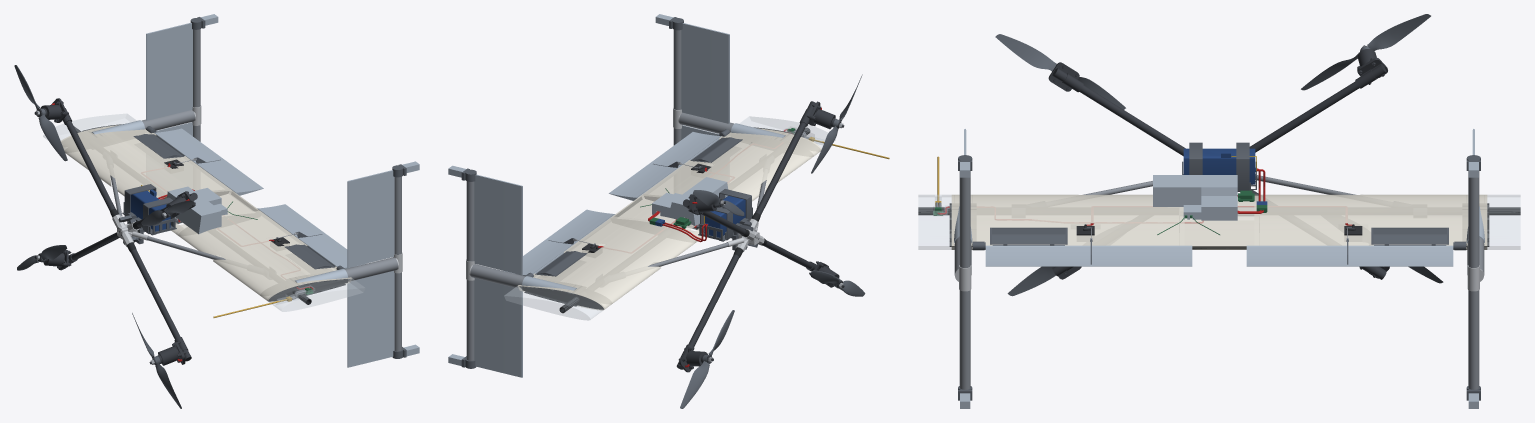
The model's file is concept-a.opt.glb.
3 views of the same model, side by side, from view 1: azimuth 30°, elevation 25°; view 2: azimuth 150°, elevation 25°; view 3: azimuth 270°, elevation 25° (orthographic). The views are drawn at different scales.
Parts seen in each view (by area): view 1: WNG-011, FIN-004-L, WNG-014-L, WNG-014-R, FIN-004-R, WNG-001, WNG-006-R, WNG-006-L, AVN-008, CGE-002-A, FIN-001-L, PRP-002-UR (+14 smaller); view 2: WNG-011, FIN-004-R, WNG-014-R, WNG-014-L, FIN-004-L, WNG-001, WNG-006-L, WNG-006-R, CGE-002-B, FIN-001-R, AVN-008, FIN-001-L (+14 smaller); view 3: WNG-011, WNG-014-R, WNG-014-L, WNG-006-R, WNG-006-L, WNG-001, AVN-008, FIN-001-R, FIN-001-L, PWR-001, WNG-008-RU, WNG-008-LU (+8 smaller).
Part boxes in pixels (left/top/right/bottom): WNG-011: left=60, top=125, right=351, bottom=300; FIN-004-L: left=347, top=170, right=394, bottom=367; WNG-014-L: left=176, top=211, right=351, bottom=301; WNG-014-R: left=61, top=126, right=231, bottom=197; FIN-004-R: left=146, top=22, right=192, bottom=136; WNG-001: left=43, top=113, right=365, bottom=311; WNG-006-R: left=154, top=128, right=263, bottom=195; WNG-006-L: left=257, top=204, right=365, bottom=268; AVN-008: left=166, top=186, right=227, bottom=234; CGE-002-A: left=65, top=120, right=180, bottom=338; FIN-001-L: left=394, top=176, right=401, bottom=351; PRP-002-UR: left=14, top=65, right=67, bottom=161; WNG-011: left=518, top=128, right=821, bottom=309; FIN-004-R: left=474, top=174, right=522, bottom=377; WNG-014-R: left=518, top=216, right=696, bottom=310; WNG-014-L: left=641, top=129, right=821, bottom=202; FIN-004-L: left=681, top=23, right=729, bottom=139; WNG-001: left=504, top=116, right=835, bottom=320; WNG-006-L: left=609, top=132, right=721, bottom=200; WNG-006-R: left=503, top=209, right=615, bottom=275; CGE-002-B: left=688, top=122, right=806, bottom=346; FIN-001-R: left=466, top=181, right=474, bottom=360; AVN-008: left=652, top=177, right=728, bottom=225; FIN-001-L: left=673, top=29, right=681, bottom=145; WNG-011: left=951, top=194, right=1487, bottom=249; WNG-014-R: left=1254, top=195, right=1486, bottom=249; WNG-014-L: left=952, top=195, right=1184, bottom=249; WNG-006-R: left=1246, top=245, right=1453, bottom=266; WNG-006-L: left=985, top=245, right=1192, bottom=266; WNG-001: left=918, top=195, right=1520, bottom=249; AVN-008: left=1153, top=175, right=1237, bottom=220; FIN-001-R: left=1468, top=171, right=1479, bottom=389; FIN-001-L: left=959, top=171, right=970, bottom=389; PWR-001: left=1183, top=148, right=1267, bottom=204; WNG-008-RU: left=1371, top=227, right=1448, bottom=244; WNG-008-LU: left=990, top=227, right=1067, bottom=244.
Bounding box in the file's own units: 0.4892 × 0.4652 × 0.9.
